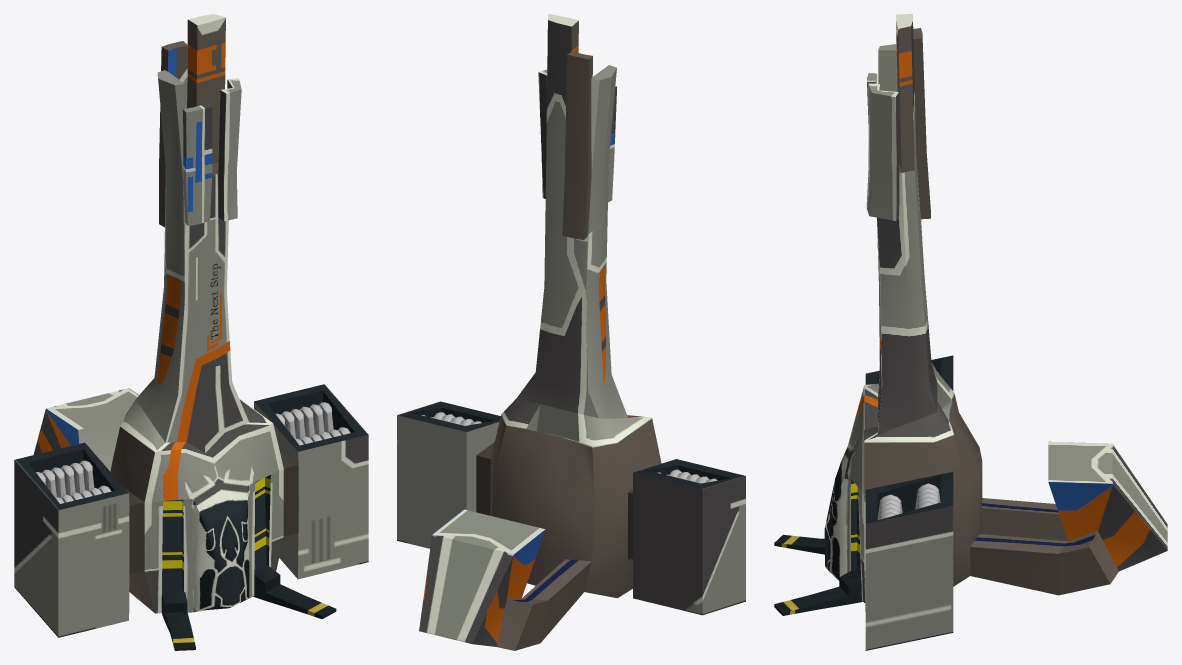
File: landing craft.fbx
3 renders of one model, left to right at view 1: azimuth 30°, elevation 25°; view 2: azimuth 150°, elevation 25°; view 3: azimuth 270°, elevation 25°, orthographic.
Parts seen in each view (by area): view 1: pCube20, pCube74, resourbuildes_and:polySurface1, resourbuildes_and:polySurface2; view 2: pCube20, pCube74; view 3: pCube20, resourbuildes_and:polySurface1, pCube74, resourbuildes_and:polySurface2.
Part boxes in pixels (bbox=[...]): pCube20: bbox=[14, 14, 368, 637]; pCube74: bbox=[36, 402, 350, 503]; resourbuildes_and:polySurface1: bbox=[253, 565, 336, 619]; resourbuildes_and:polySurface2: bbox=[162, 590, 195, 650]; pCube20: bbox=[397, 14, 745, 650]; pCube74: bbox=[421, 412, 717, 483]; pCube20: bbox=[824, 14, 1167, 650]; resourbuildes_and:polySurface1: bbox=[774, 569, 862, 615]; pCube74: bbox=[877, 372, 940, 519]; resourbuildes_and:polySurface2: bbox=[774, 534, 824, 554].
Size of the model in its own units: 30.48 by 53.02 by 33.68.
